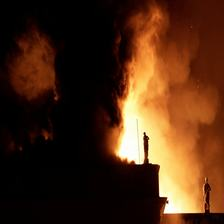fire: (106, 6, 206, 214), (8, 24, 71, 138)
